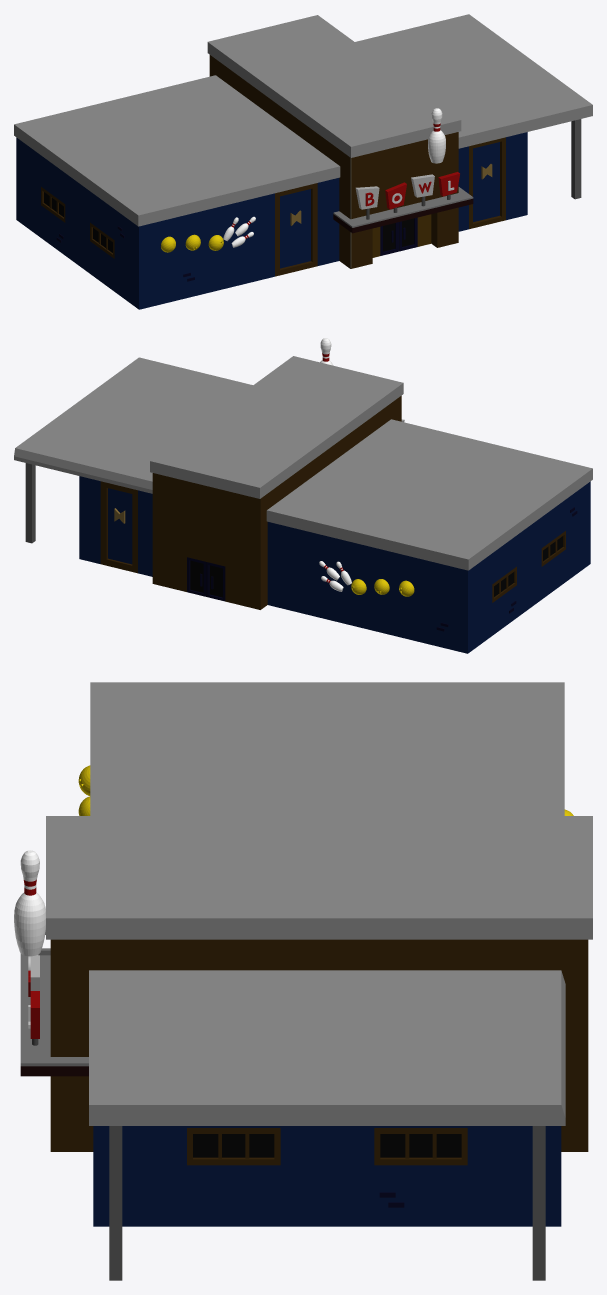
File: Bowling.fbx
3 views of the same model, one above another, from view 1: azimuth 30°, elevation 25°; view 2: azimuth 150°, elevation 25°; view 3: azimuth 270°, elevation 25° (orthographic). The views are drawn at different scales.
Parts seen in each view (by area): view 1: Bowling; view 2: Bowling; view 3: Bowling.
Boxes of the visible parts, box(x1,y1,x2,y2) form: Bowling: box(14, 14, 592, 309); Bowling: box(14, 338, 592, 653); Bowling: box(14, 682, 592, 1280).
Size of what is drawn, in the model's own units: 33.9 by 10.3 by 19.64.
